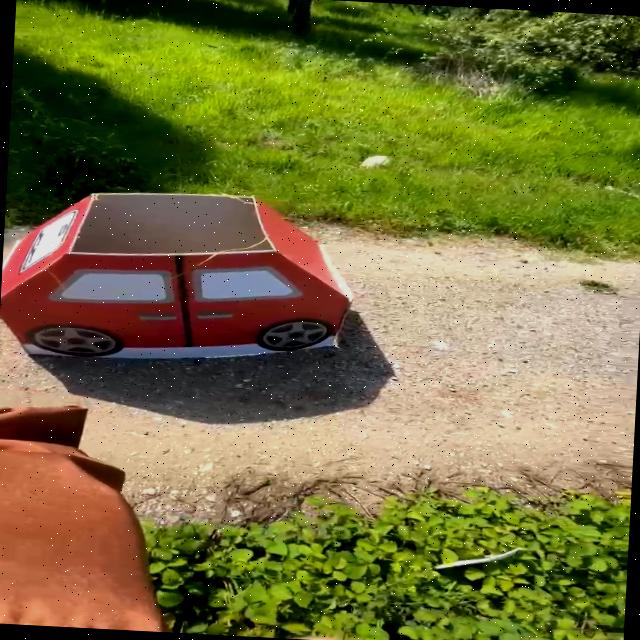red_car: (0, 170, 377, 411)
